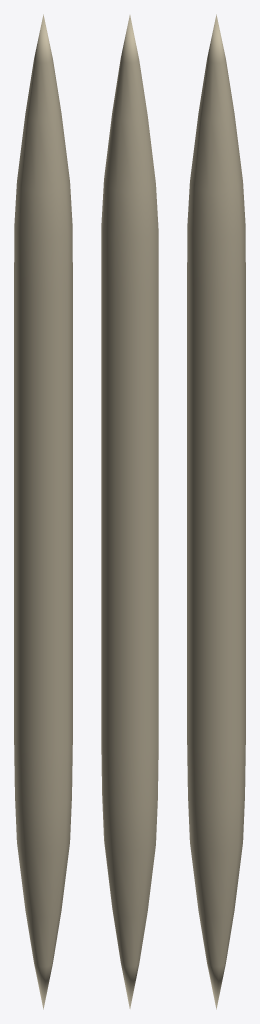
File: toothpick.fbx
The picture shows the model from 3 angles, left to right: view 1: azimuth 90°, elevation 25°; view 2: azimuth 150°, elevation 25°; view 3: azimuth 270°, elevation 25°; orthographic projection.
Visible parts, largest first — view 1: toothpick; view 2: toothpick; view 3: toothpick.
Boxes of the visible parts, x1=… form: toothpick: x1=14, y1=14, x2=72, y2=1009; toothpick: x1=101, y1=15, x2=158, y2=1008; toothpick: x1=187, y1=14, x2=245, y2=1009.
Size of the model in its own units: 17.25 by 339 by 18.14.
